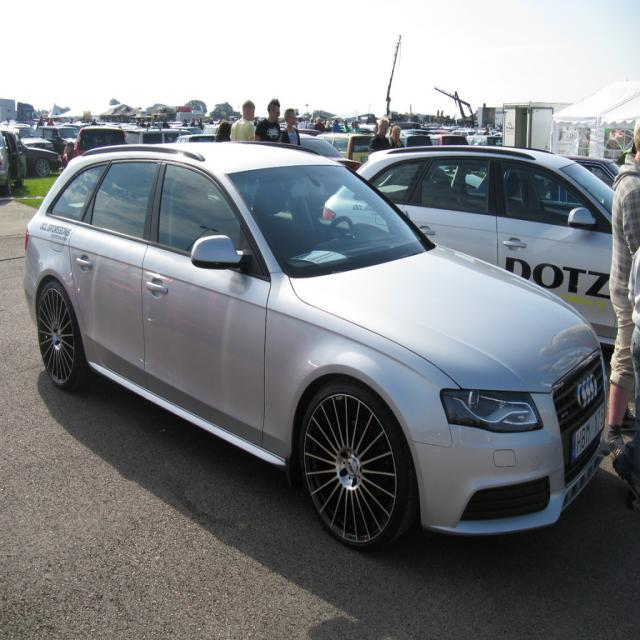car: (22, 139, 610, 553)
